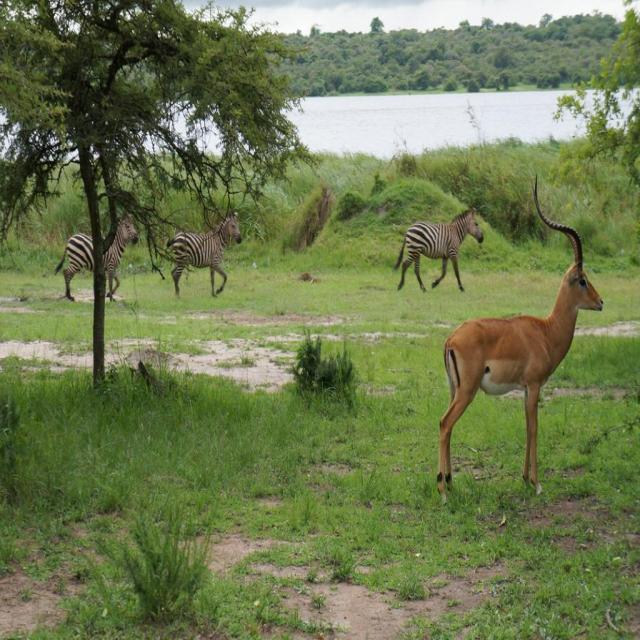Deer: (442, 173, 604, 492)
